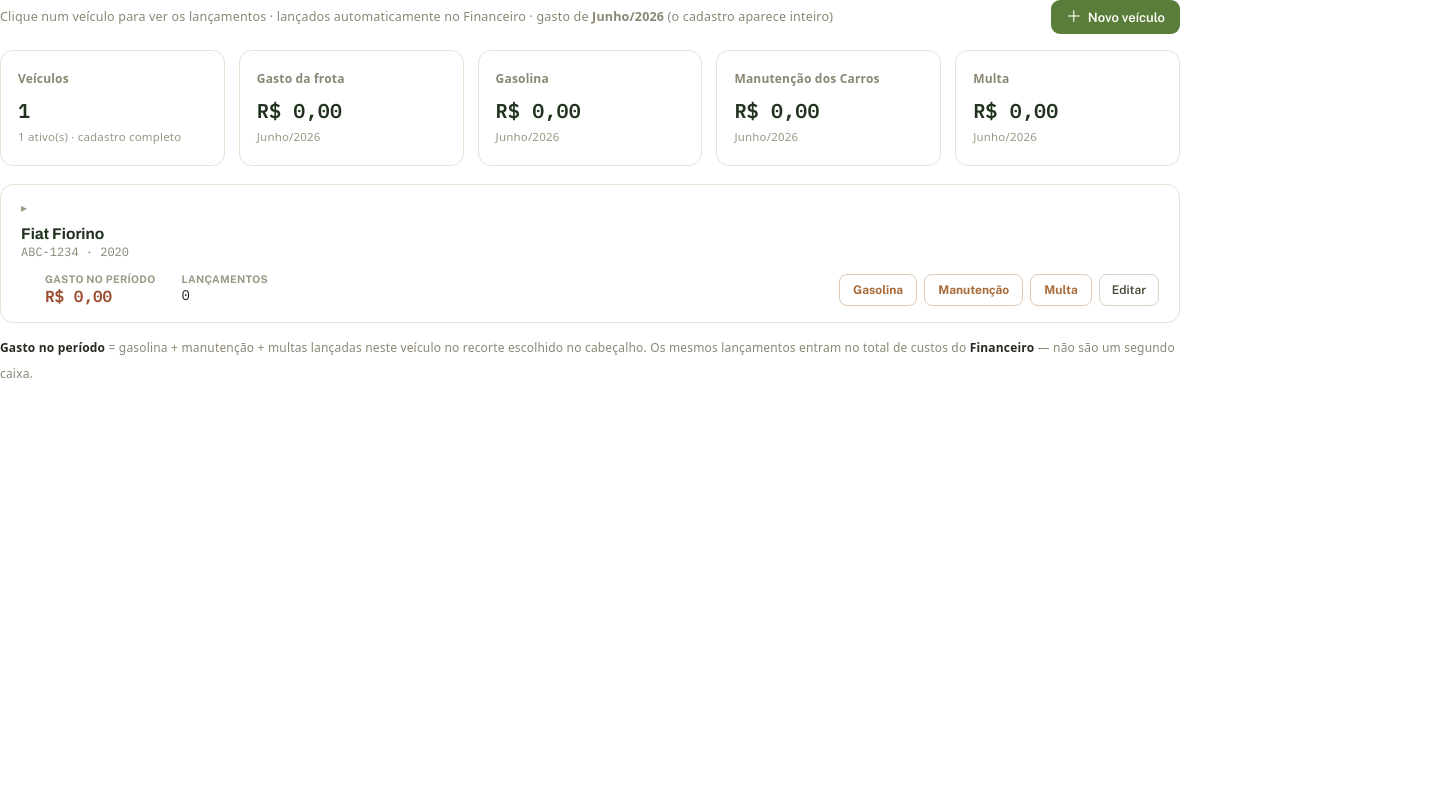
Test: VeiculosLista — o botao abre o modal de lancamento QUE JA EXISTE, pre-preenchido › Gasolina abre o ModalLancamento com a categoria e o veiculo escolhidos
Click the button with aria-label "Lançar gasolina" at (878, 290), box [839, 274, 917, 306]
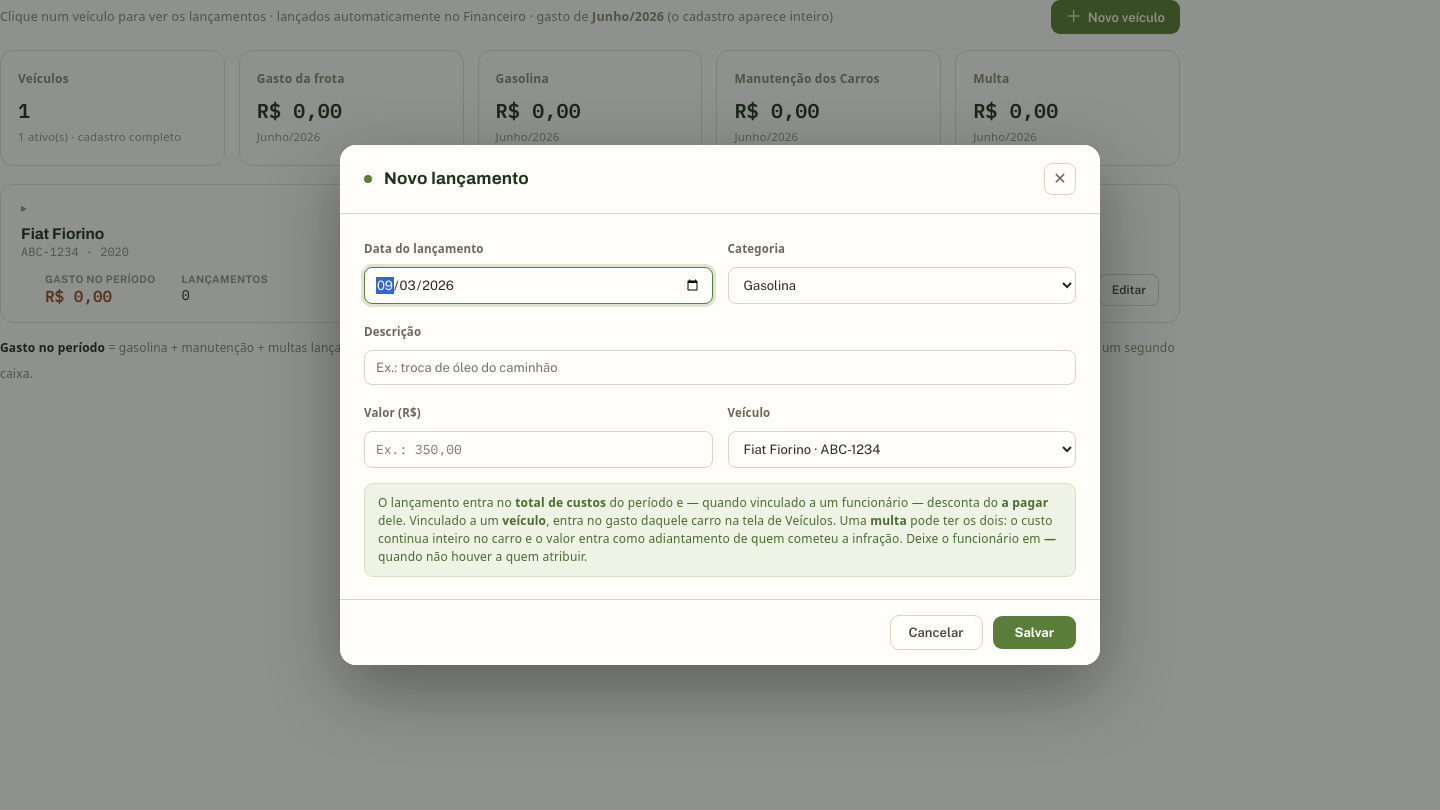
Check: the dialog "Novo lançamento" is shown
Check: the dropdown labelled "Categoria" shows "Gasolina", box [728, 267, 1076, 304]
Check: the dropdown labelled "Veículo" shows "Fiat Fiorino · ABC-1234", box [728, 431, 1076, 468]
